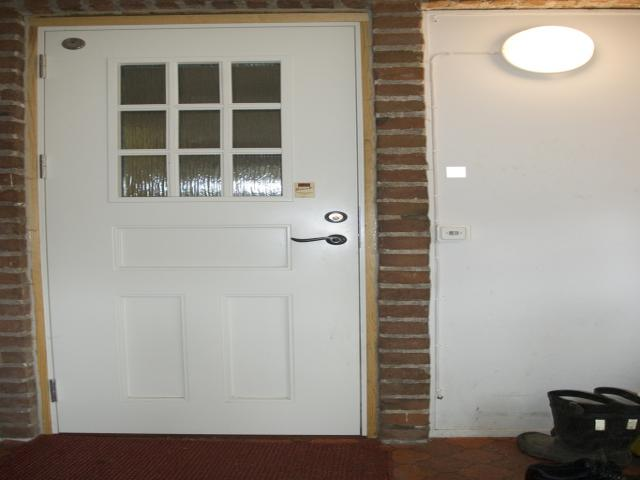Door-handle: (290, 234, 346, 244)
